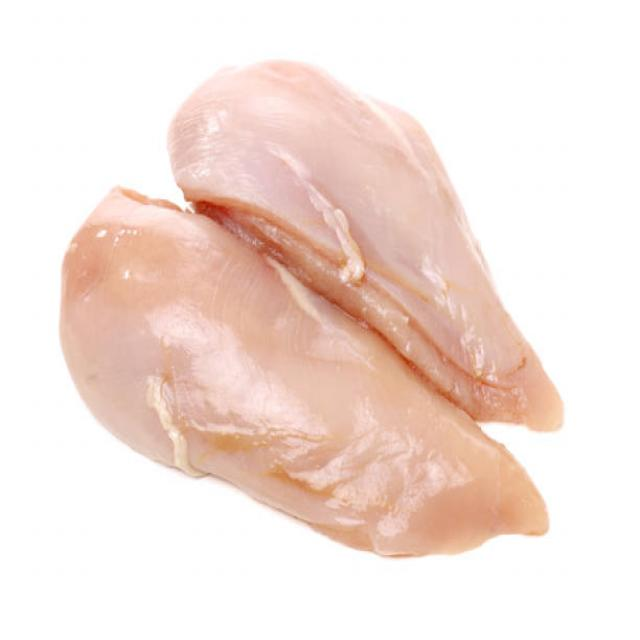Chicken: (12, 272, 443, 546), (213, 26, 578, 304)
